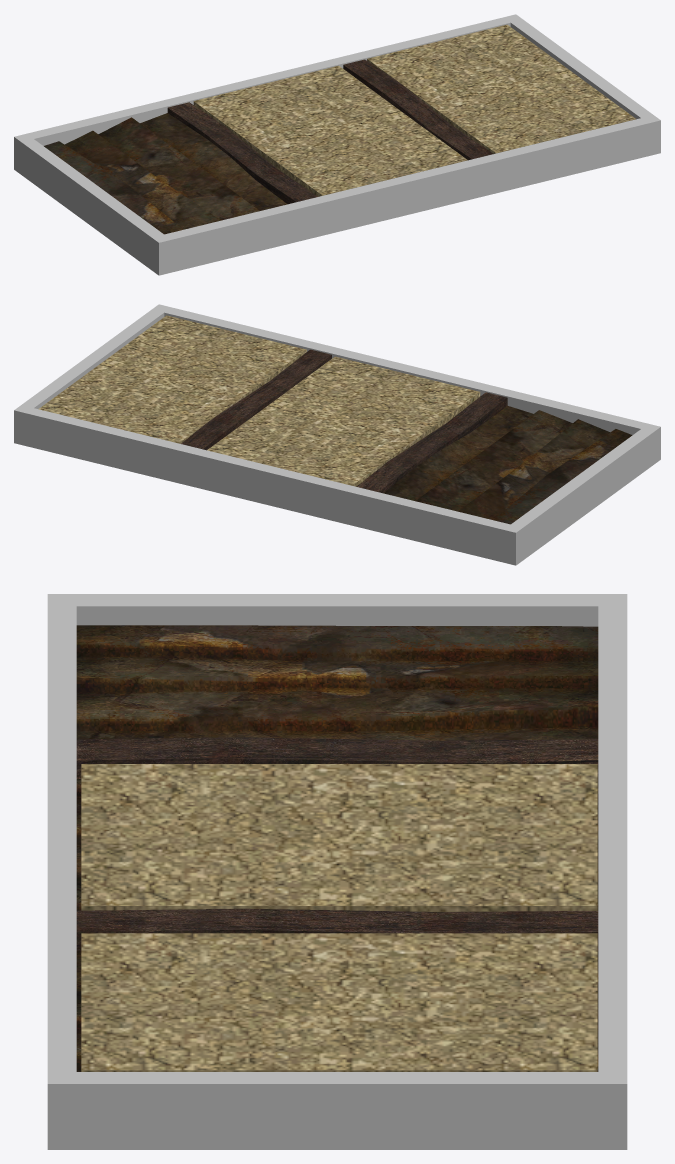
Rendered from attic_floor_small.DAE.
3 renders of one model, top to bottom at view 1: azimuth 30°, elevation 25°; view 2: azimuth 150°, elevation 25°; view 3: azimuth 270°, elevation 25°, orthographic. The views are drawn at different scales.
Parts seen in each view (by area): view 1: Box053, Object044, Box051; view 2: Box053, Object044, Box051; view 3: Box053, Object044, Box051.
Part boxes in pixels (x1,y1,x2,y2): Box053: [193, 24, 635, 196]; Object044: [14, 14, 660, 275]; Box051: [44, 59, 493, 234]; Box053: [38, 315, 480, 486]; Object044: [14, 304, 660, 565]; Box051: [181, 349, 632, 524]; Box053: [81, 764, 597, 1071]; Object044: [47, 594, 627, 1149]; Box051: [76, 625, 598, 1071].
Size of what is drawn, in the model's own units: 4 by 0.25 by 2.
